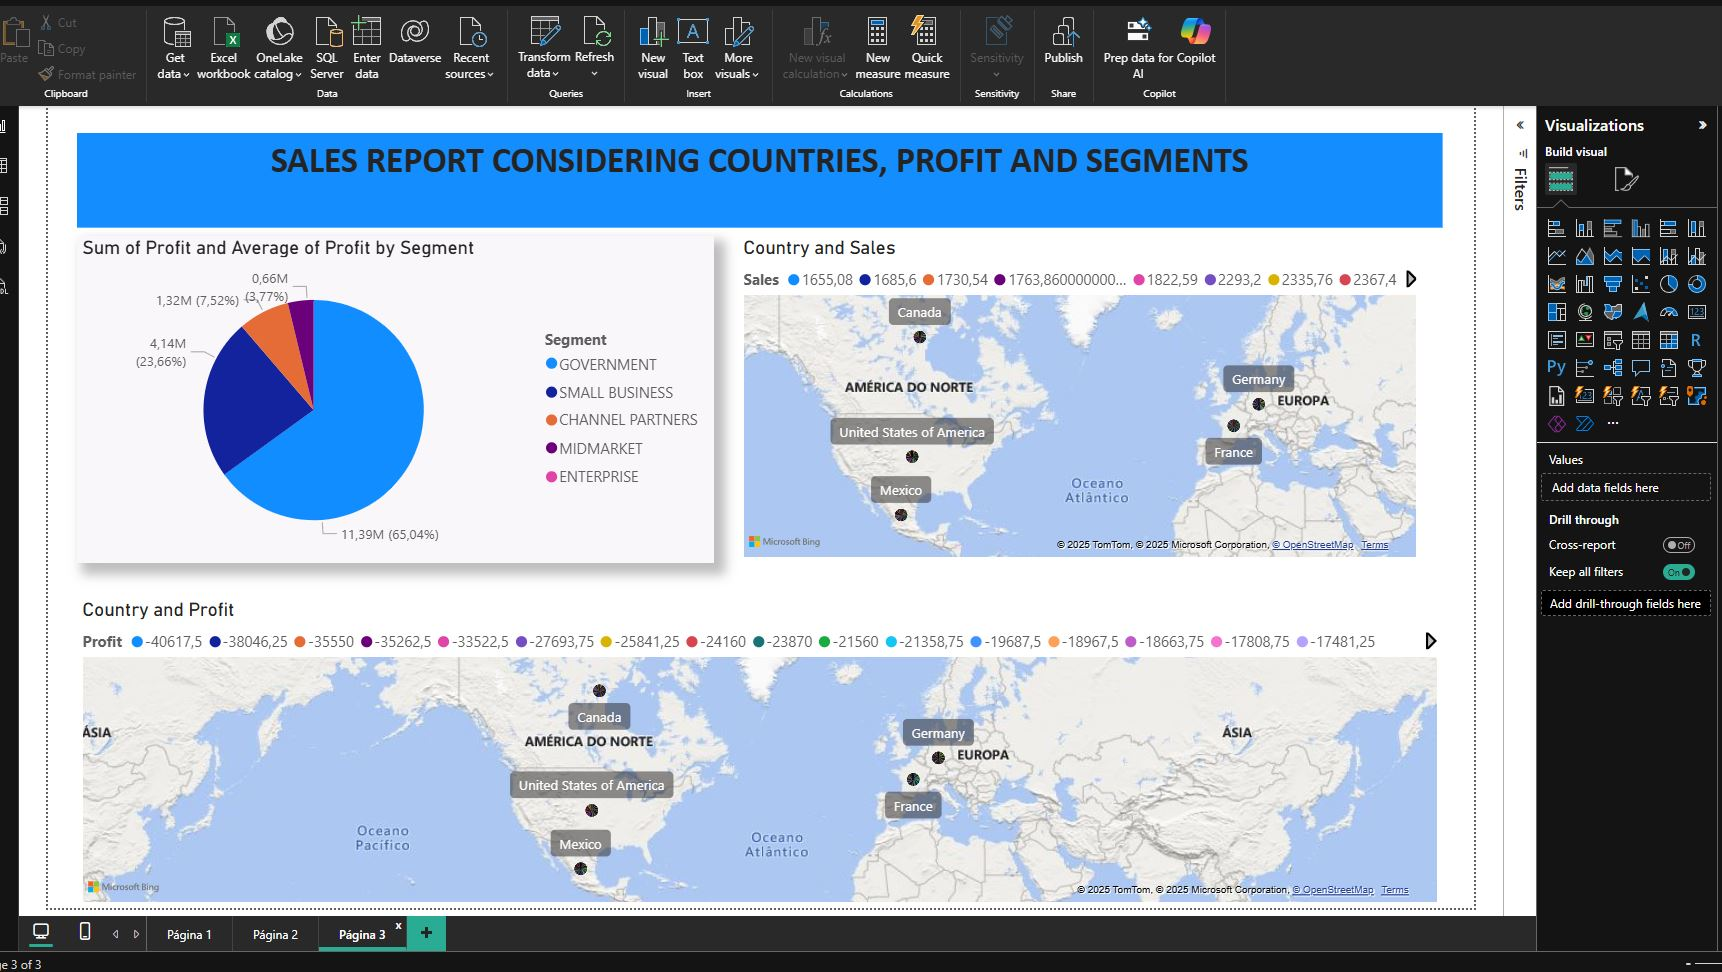

The dashboard page shown, as its layout file describes it:
{"tool":"powerbi","page":{"name":"Página 3","canvas":[1280,720],"ordinal":2},"visuals":[{"type":"textbox","box":[26.1,23.9,1225.6,84.9],"z":0},{"type":"map","fields":{"Category":["financials.Country"],"Series":["financials.Profit"]},"box":[26.1,441.9,1225.6,278.6],"z":1000},{"type":"pieChart","fields":{"Category":["financials.Segment"],"Y":["Sum(financials.Profit)"]},"box":[26,116.7,571.9,293.6],"z":2000},{"type":"map","fields":{"Category":["financials.Country"],"Series":["financials.Sales"]},"box":[619.5,116.7,614.1,293.6],"z":3000}]}

Visuals, with their boxes on the page's 1280x720 design canvas (x1, y1, x2, y2). These are canvas units, not pixel positions in the 1722x972 screenshot, which may show the page scaled, cropped or inside an application window:
textbox: BBox(26, 24, 1252, 109)
map - financials.Country x financials.Profit: BBox(26, 442, 1252, 720)
pieChart - financials.Segment x Sum(financials.Profit): BBox(26, 117, 598, 410)
map - financials.Country x financials.Sales: BBox(620, 117, 1234, 410)
